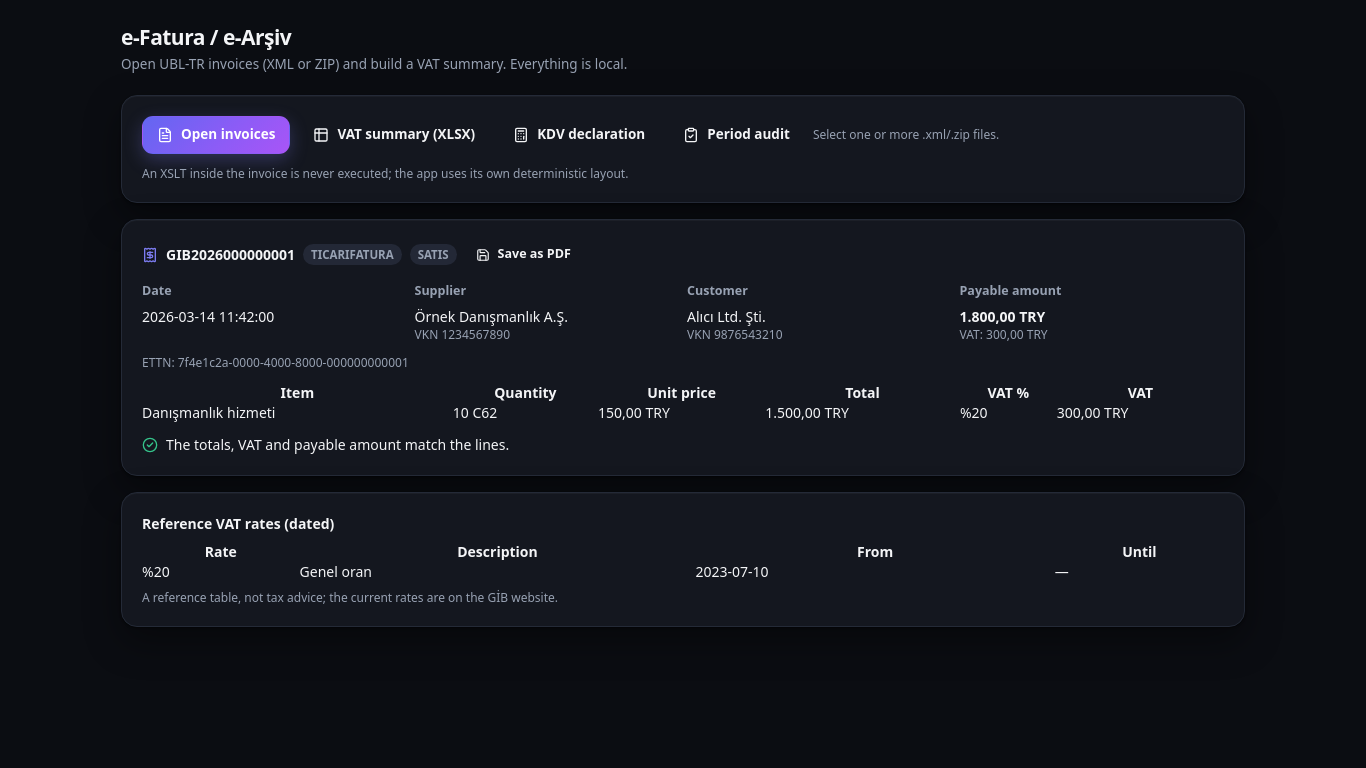
Test: invoice screen › opens KDV1 declaration summary modal upon clicking KDV Beyani
Expected: the text "GIB2026000000001" is shown, 166,244 -> 295,265
Step 1. Click the button "KDV declaration" → (579, 134), box 498,116 -> 660,154
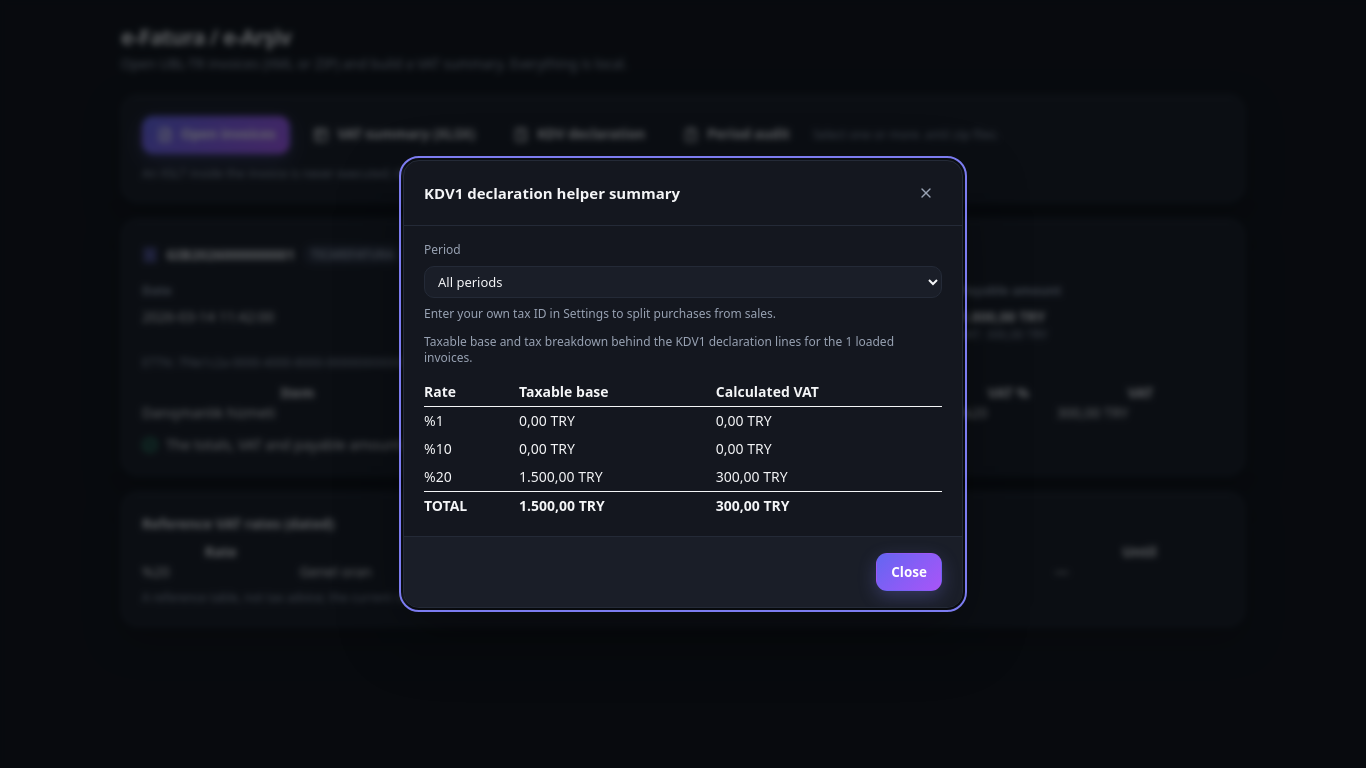
Result: the heading "KDV1 declaration helper summary" is shown at 424,182 -> 680,204
